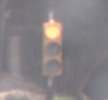Red: (43, 19, 64, 75)
